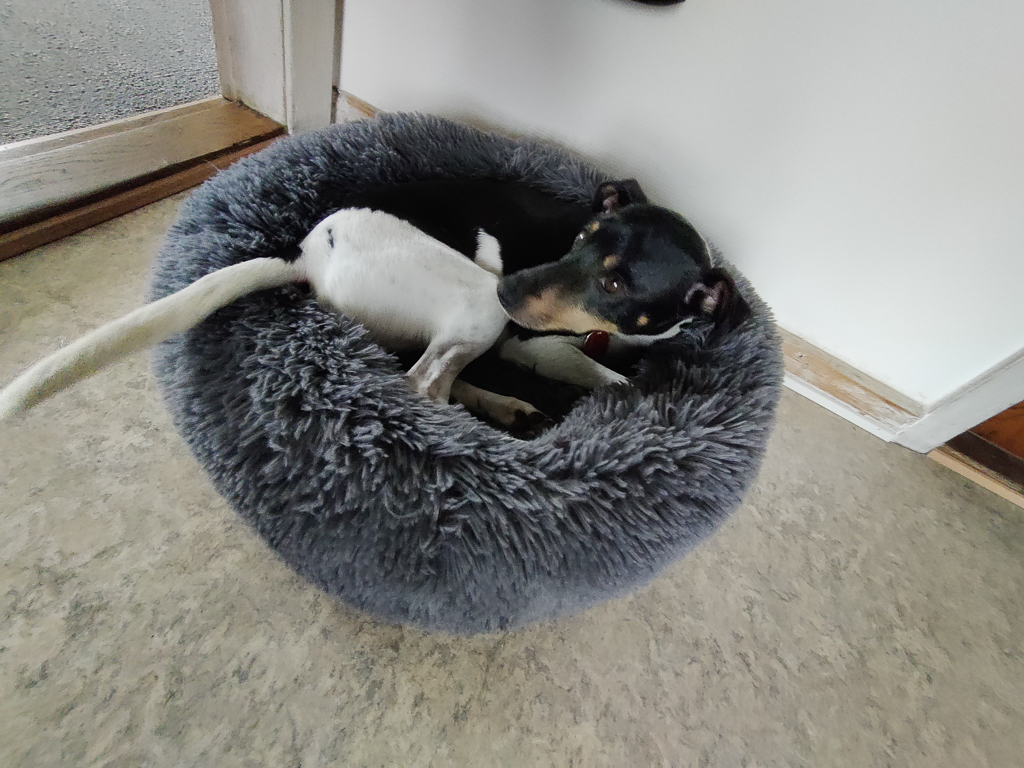Dog: (0, 151, 781, 473)
